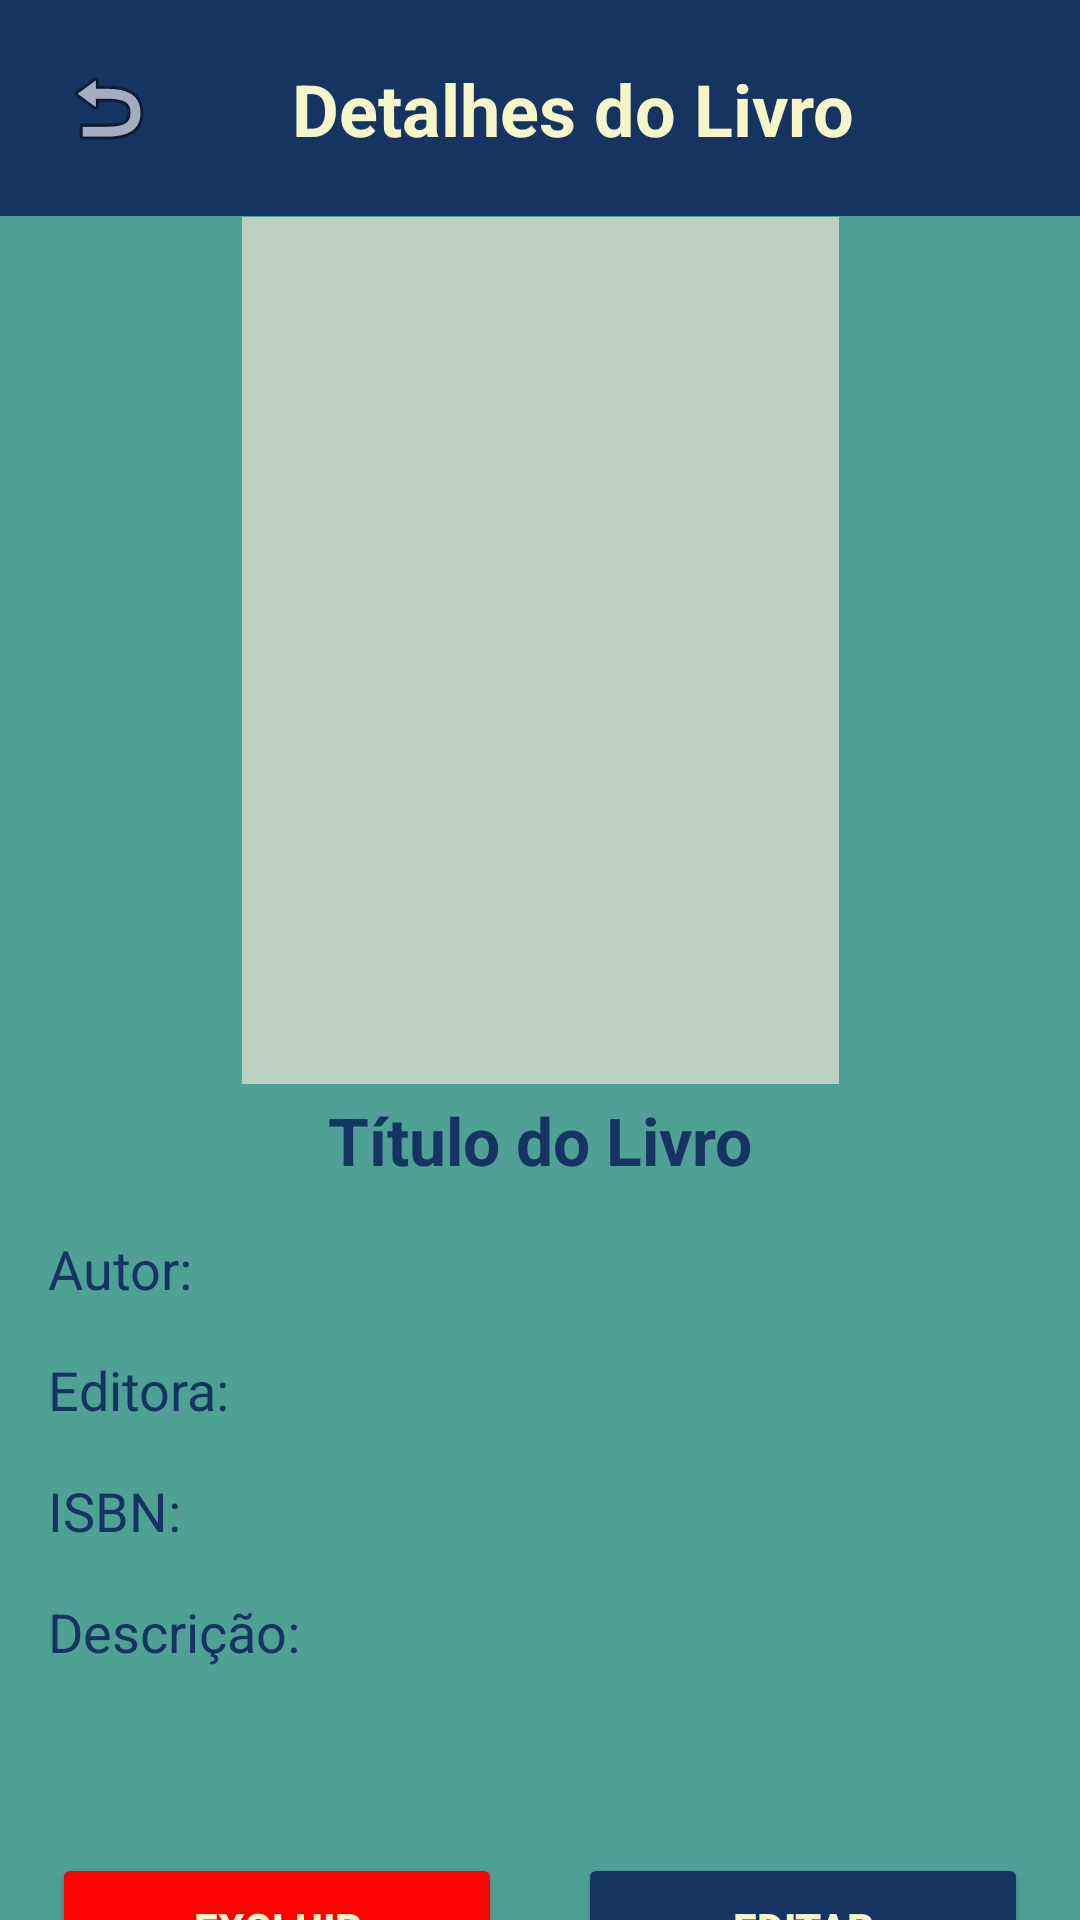

Where icons sit on this 1080x1920 app screen, as [x1=x1, y1=y1, x2=x2, y2=y2]:
Voltar: [x1=75, y1=78, x2=143, y2=140]
